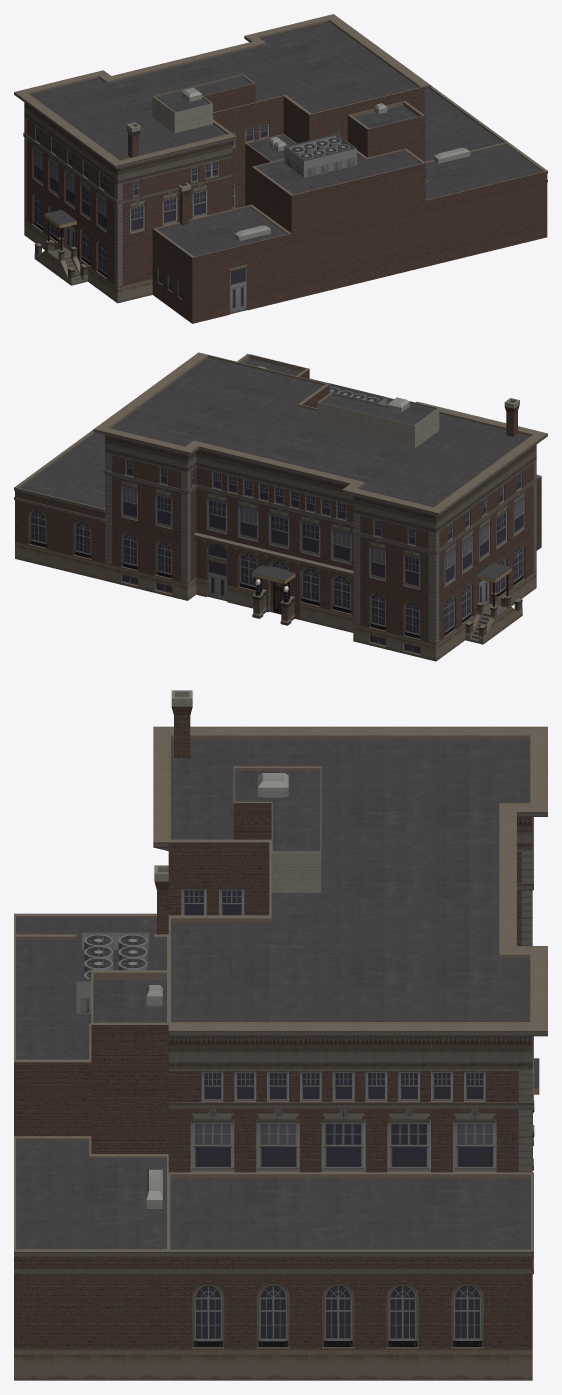
File: 317washington.fbx
3 views of the same model, one above another, from view 1: azimuth 30°, elevation 25°; view 2: azimuth 150°, elevation 25°; view 3: azimuth 270°, elevation 25° (orthographic). The views are drawn at different scales.
Visible parts, largest first — view 1: _317washington; view 2: _317washington; view 3: _317washington.
Boxes of the visible parts, x1,y1,x2,y2 form: _317washington: (14, 14, 547, 323); _317washington: (14, 352, 547, 661); _317washington: (14, 690, 547, 1380).
Bounding box in the file's own units: 12374 × 4948 × 7187.
1 material, 1 textured.
